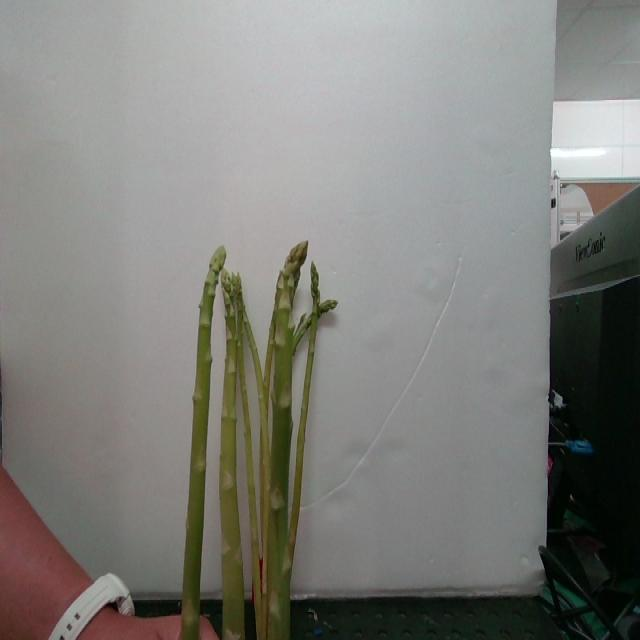aspargus: (179, 248, 225, 640), (269, 238, 312, 637)
